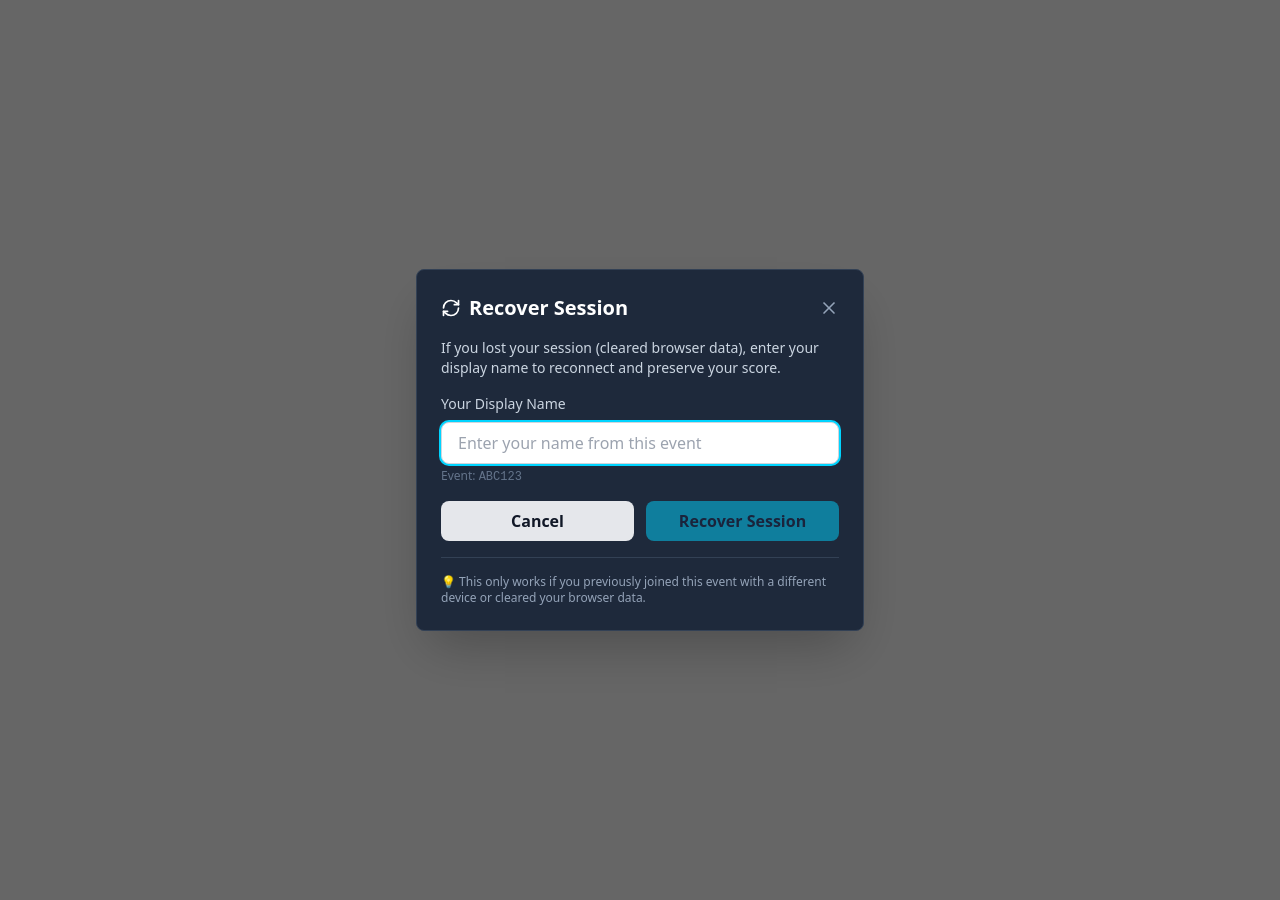
Test: RecoverSession › should show error when participant not found
Type "NonExistentUser" into the field with placeholder "Enter your name from this event" at coordinates (640, 443), box [441,422,839,464]
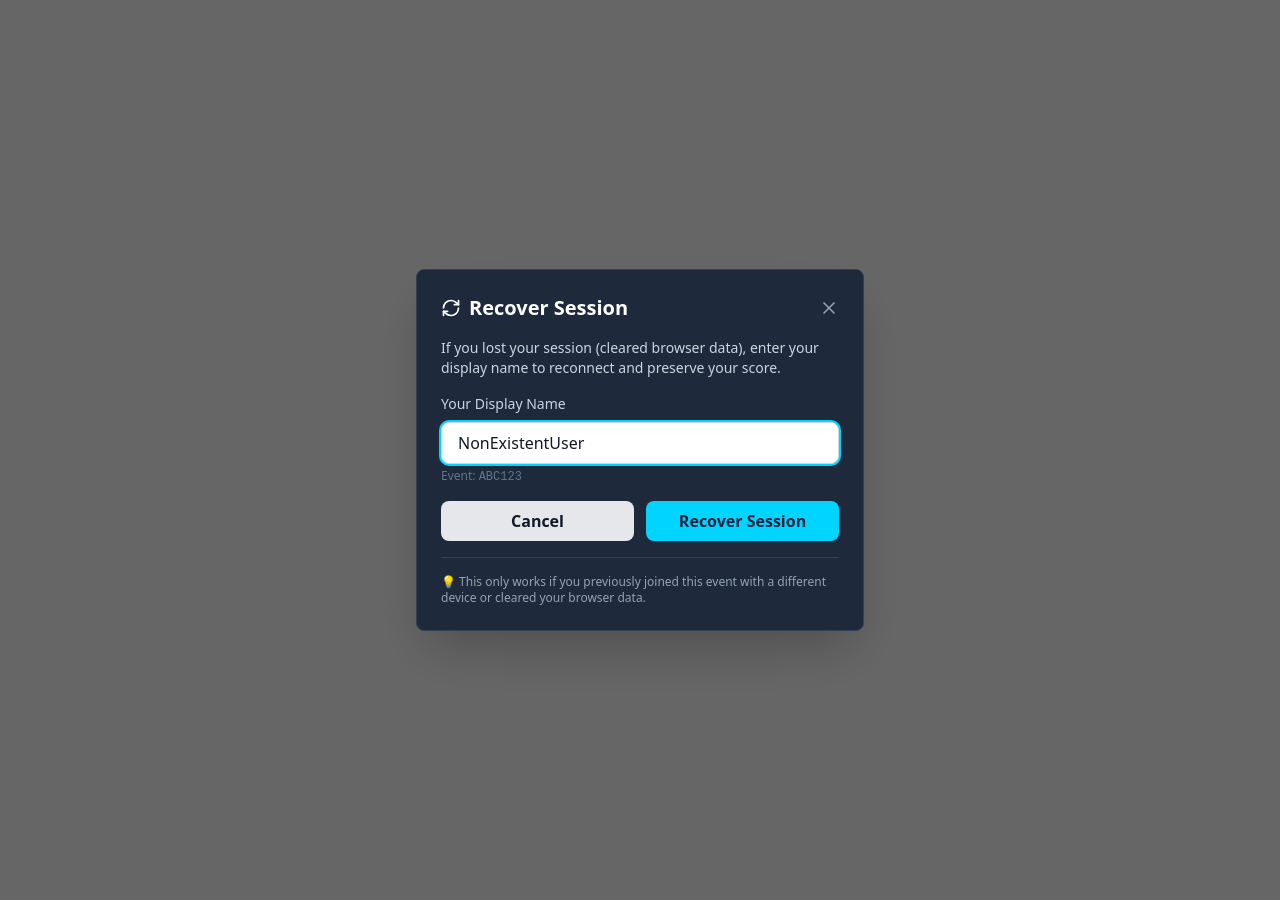
Click the button "Recover Session" at coordinates (742, 521), box [646,501,839,541]
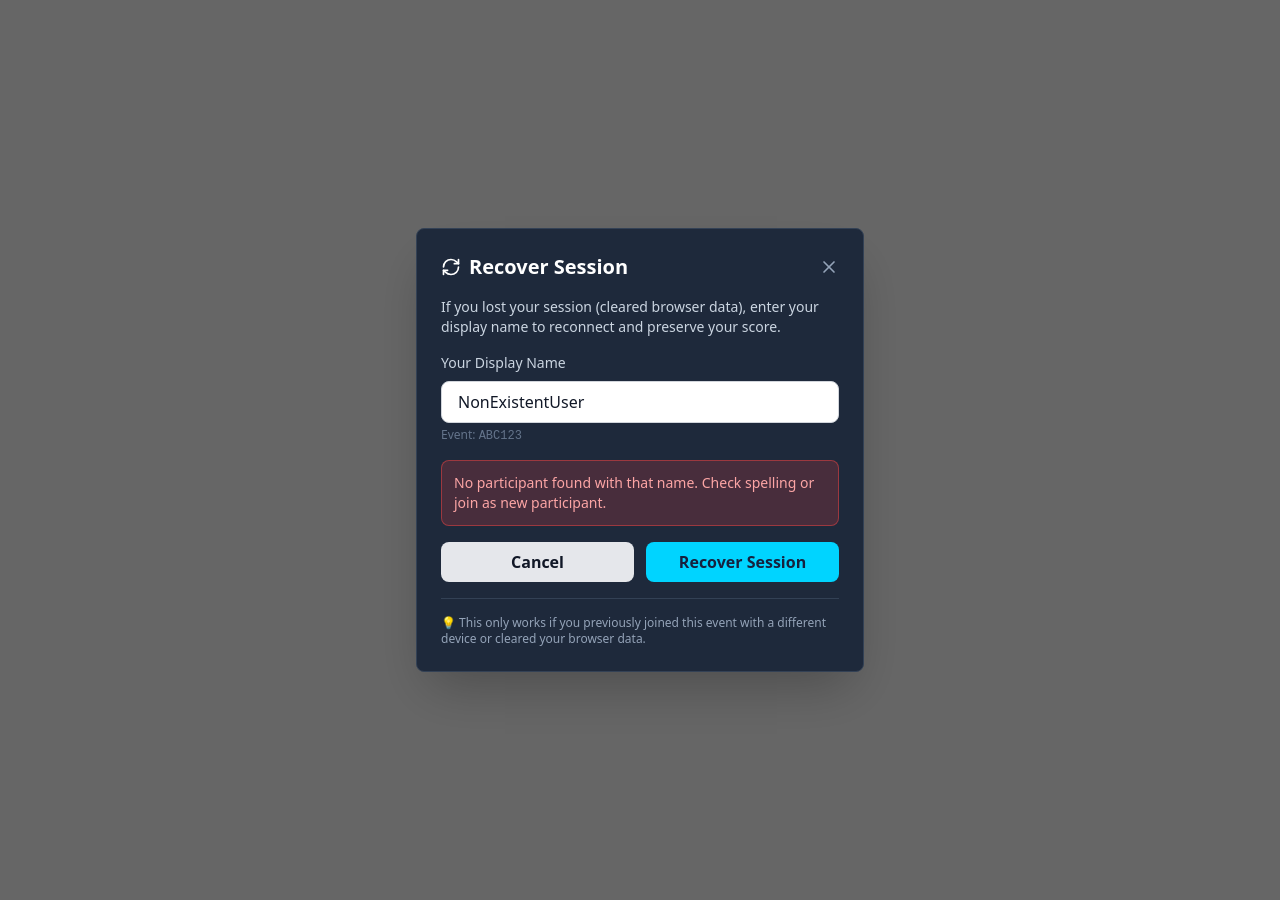
Check: the text "No participant found with that name" is shown, box [454,473,814,512]
